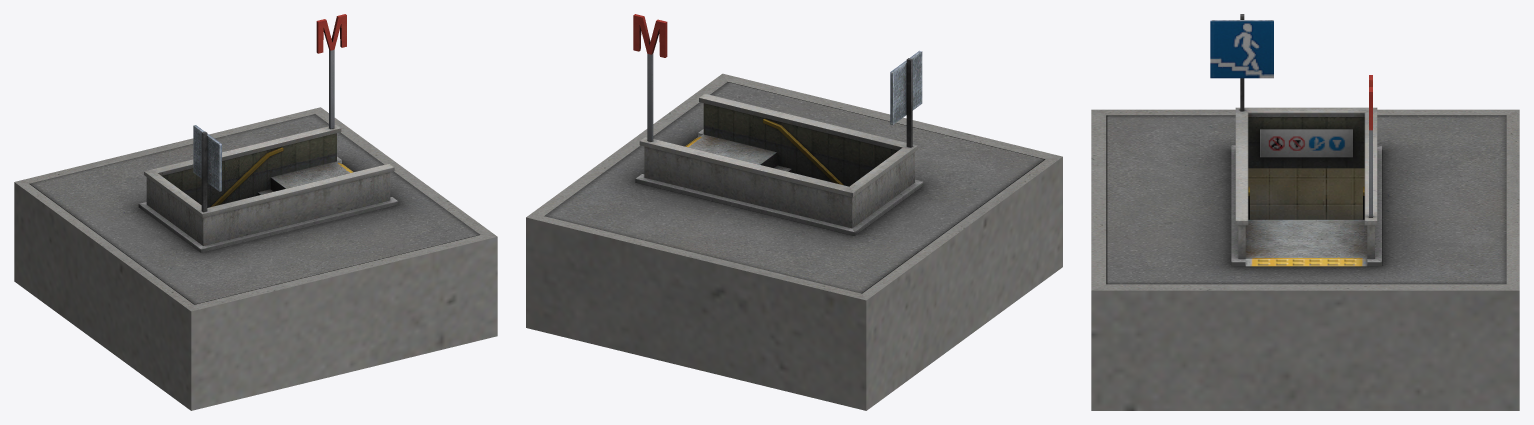
The model's file is nyc_subway_entrance.glb.
The picture shows the model from 3 angles, left to right: view 1: azimuth 30°, elevation 25°; view 2: azimuth 150°, elevation 25°; view 3: azimuth 270°, elevation 25°; orthographic projection. The views are drawn at different scales.
Visible parts, largest first — view 1: Ground_1_2; view 2: Ground_1_2; view 3: Ground_1_2.
Boxes of the visible parts, x1,y1,x2,y2 form: Ground_1_2: (14,14,497,410); Ground_1_2: (526,14,1062,410); Ground_1_2: (1091,14,1519,410).
Bounding box in the file's own units: 8.56 × 6.56 × 8.56.
Materials: 1 (1 with a texture image).
